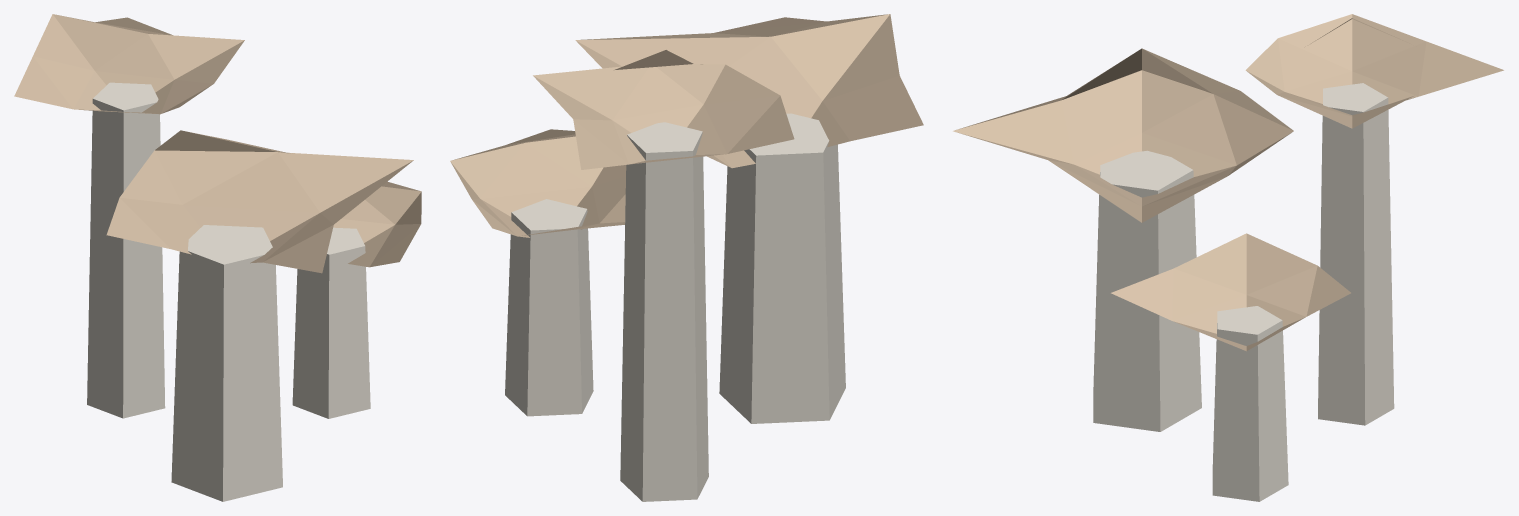
Rendered from mushroom_v17.glb.
3 views of the same model, side by side, from view 1: azimuth 30°, elevation 25°; view 2: azimuth 150°, elevation 25°; view 3: azimuth 270°, elevation 25° (orthographic). The views are drawn at different scales.
Parts seen in each view (by area): view 1: lod0; view 2: lod0; view 3: lod0.
Part boxes in pixels (bbox=[...]): lod0: bbox=[14, 14, 421, 501]; lod0: bbox=[450, 14, 923, 501]; lod0: bbox=[953, 14, 1503, 501].
Size of what is drawn, in the model's own units: 0.4269 by 0.4269 by 0.5469.
